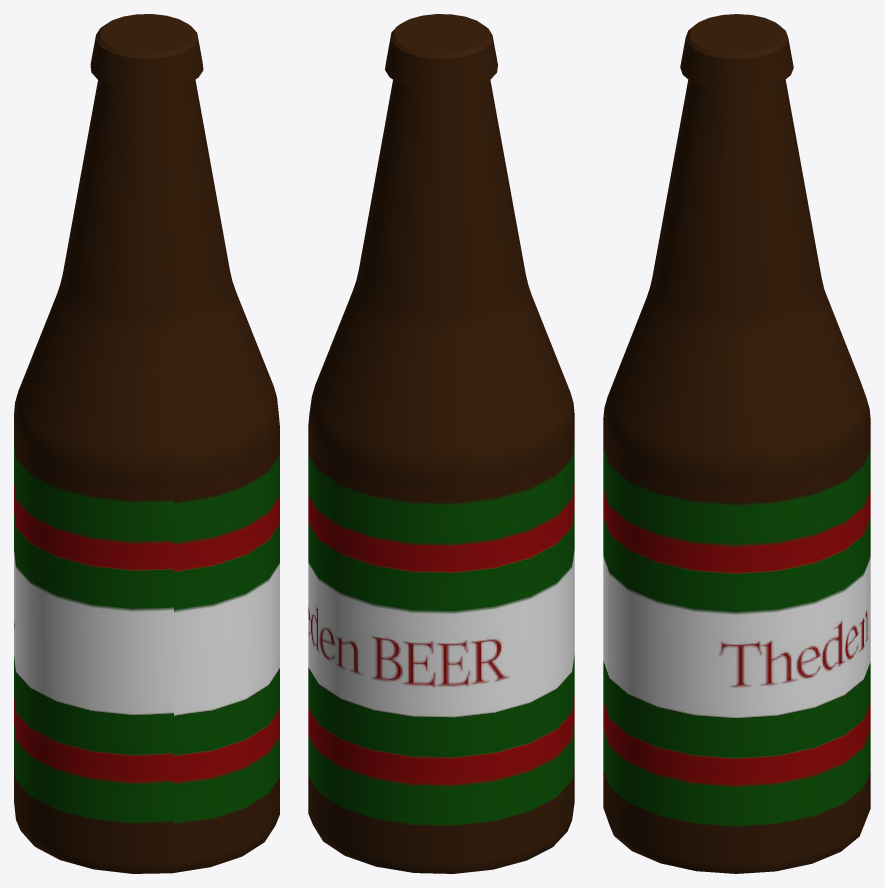
File: Eden_beer2.fbx
The picture shows the model from 3 angles, left to right: view 1: azimuth 30°, elevation 25°; view 2: azimuth 150°, elevation 25°; view 3: azimuth 270°, elevation 25°; orthographic projection.
Visible parts, largest first — view 1: polySurface52; view 2: polySurface52; view 3: polySurface52.
Boxes of the visible parts, left/top/right/bottom form: polySurface52: left=14, top=14, right=279, bottom=873; polySurface52: left=308, top=14, right=574, bottom=873; polySurface52: left=603, top=14, right=870, bottom=873.
Bounding box in the file's own units: 0.00276 × 0.00899 × 0.00276.
Materials: 1 (1 with a texture image).
